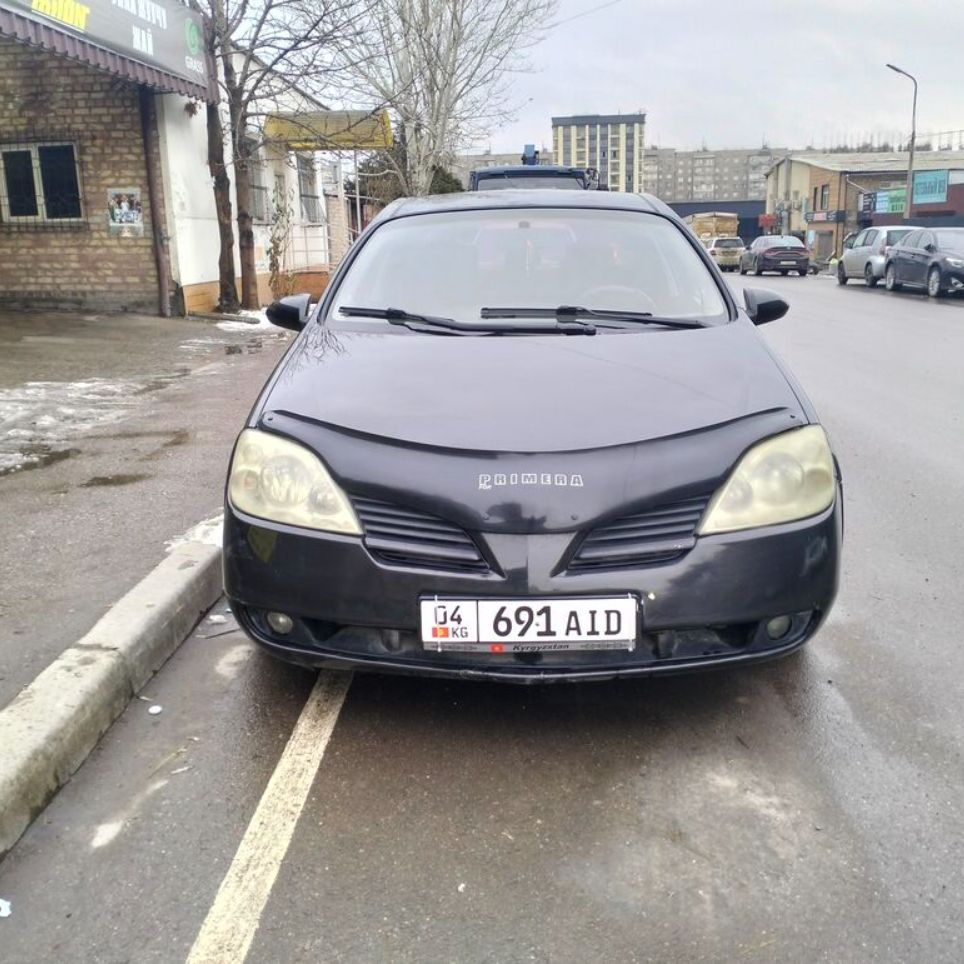license plate: (419, 595, 640, 655)
truck: (229, 184, 846, 688)
